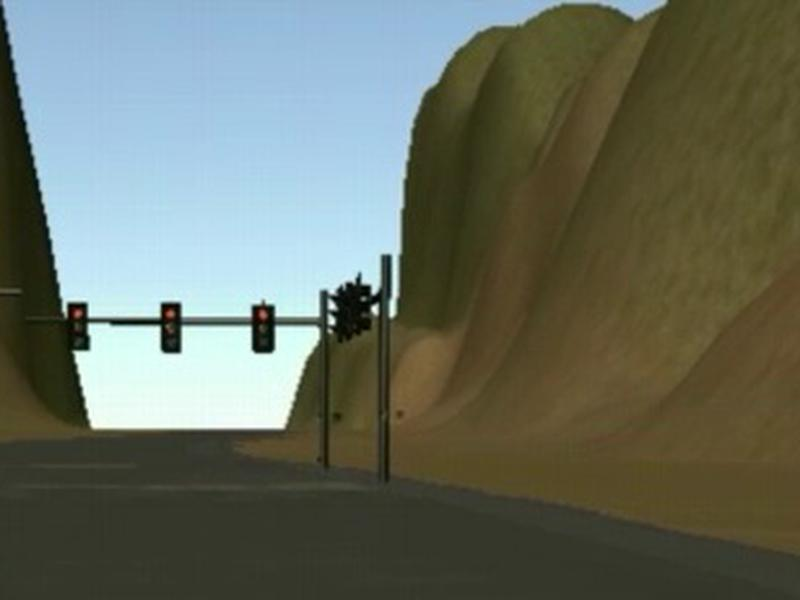Red: (66, 301, 90, 349), (251, 305, 274, 353), (161, 302, 181, 353)
